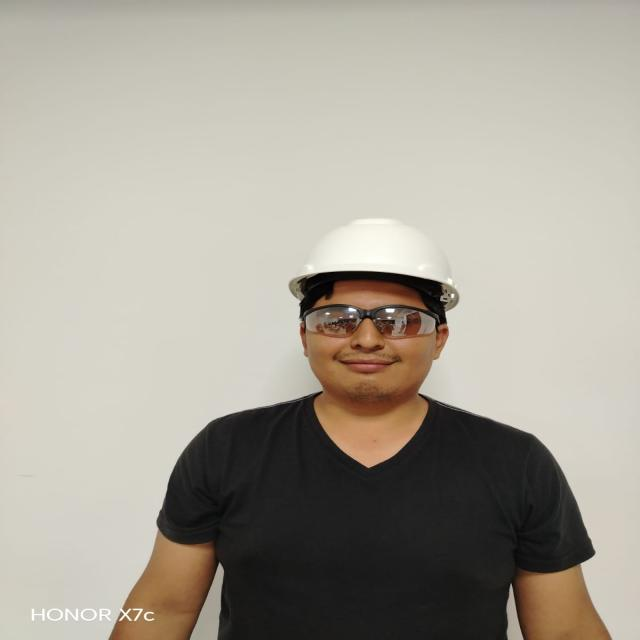helmet: (288, 218, 461, 301)
protective_glasses: (301, 304, 439, 339)
